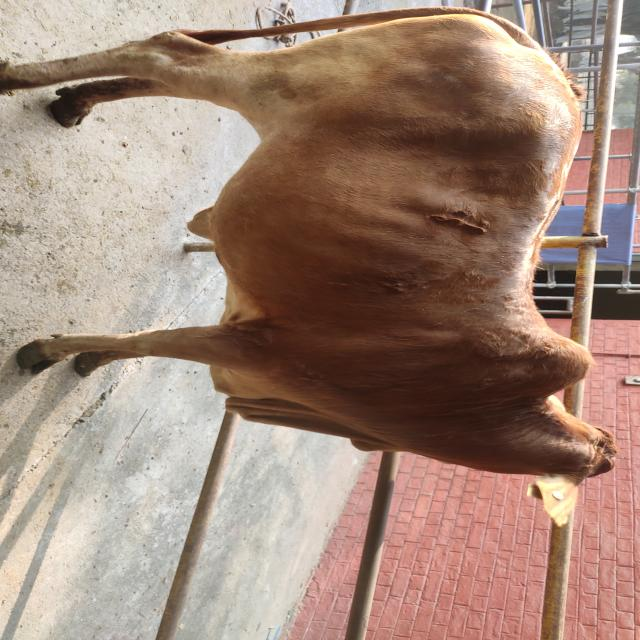cow: (2, 6, 618, 483)
hump: (532, 307, 594, 405)
